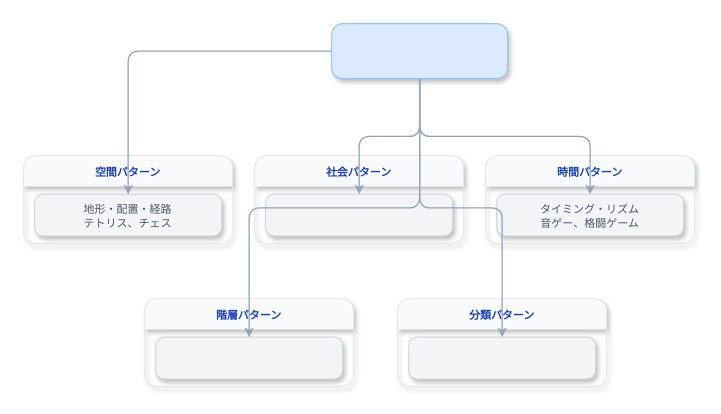
Some shapes in this 721 by 414 pixel diagram are drawn without their labels. The centre of each missing label's shape, as x and y in pixels:
"カテゴリ分け・属性 ポケモン、カードゲーム" goes at point (502, 359).
"ゲームが提示する パターンの種類" goes at point (420, 52).
"交渉・裏切り・協力 マフィア、外交ゲーム" goes at point (359, 216).
"戦略→戦術→操作 RTS、4Xストラテジー" goes at point (249, 359).
